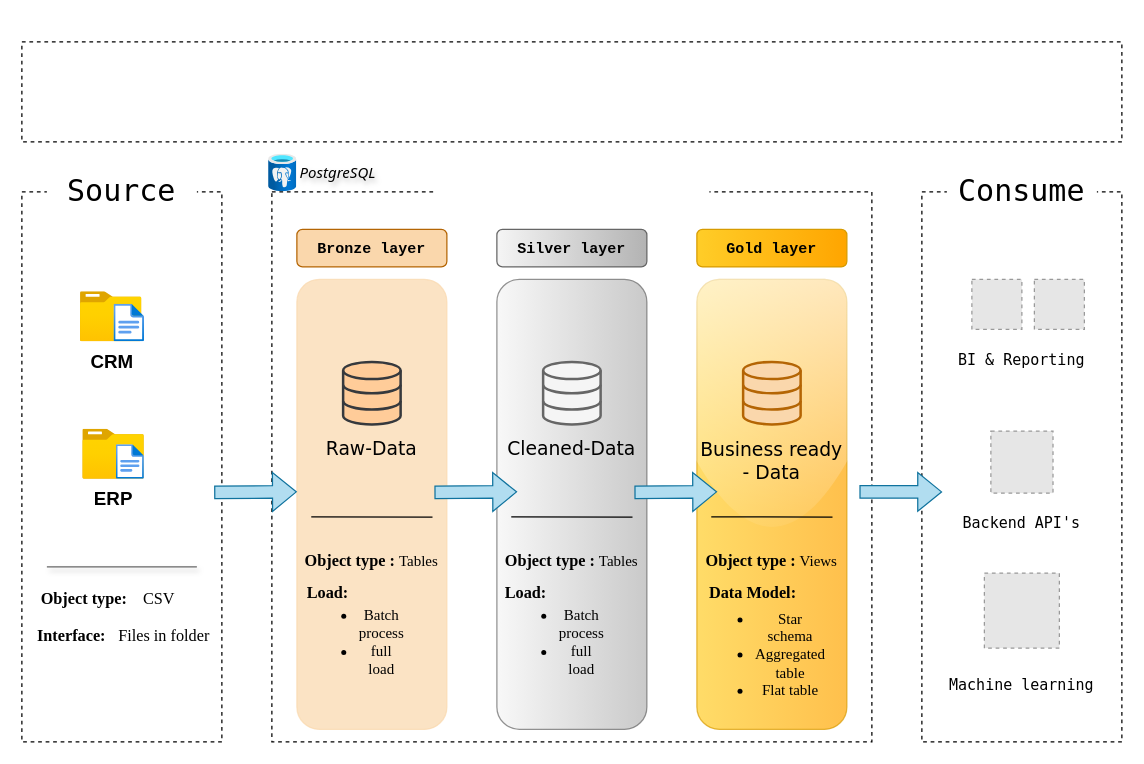
Some shapes in this 1144 by 764 pixel diagram are drawn without their labels. Grey dashed boxes stand in for pictures. The shapes that lost their labels are listed below. From the top down, each one's centre as x and y in pixels, then its label:
At point (571, 91): "High-level Architecture".
At point (571, 191): "Data warehouse".
